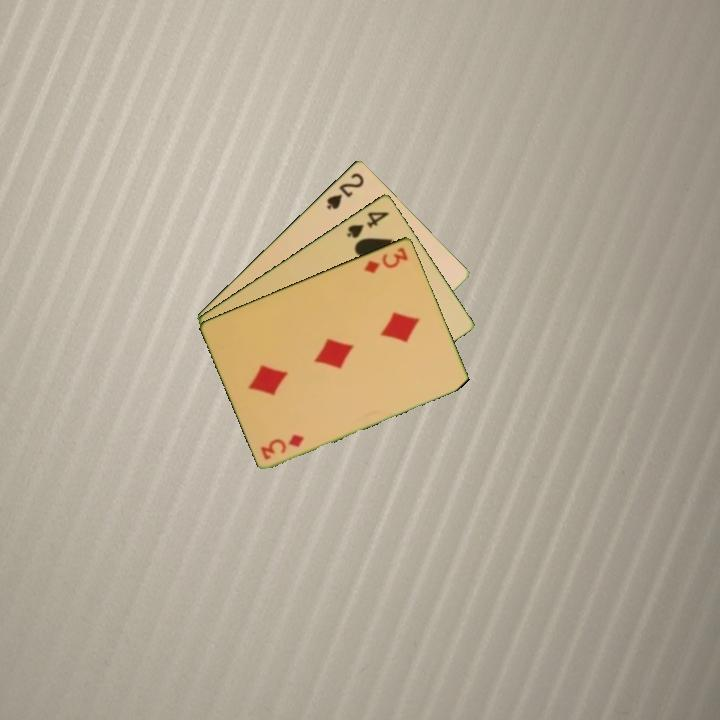2s: (323, 168, 367, 212)
3d: (360, 243, 411, 276), (257, 430, 308, 462)
4s: (343, 207, 392, 241)
